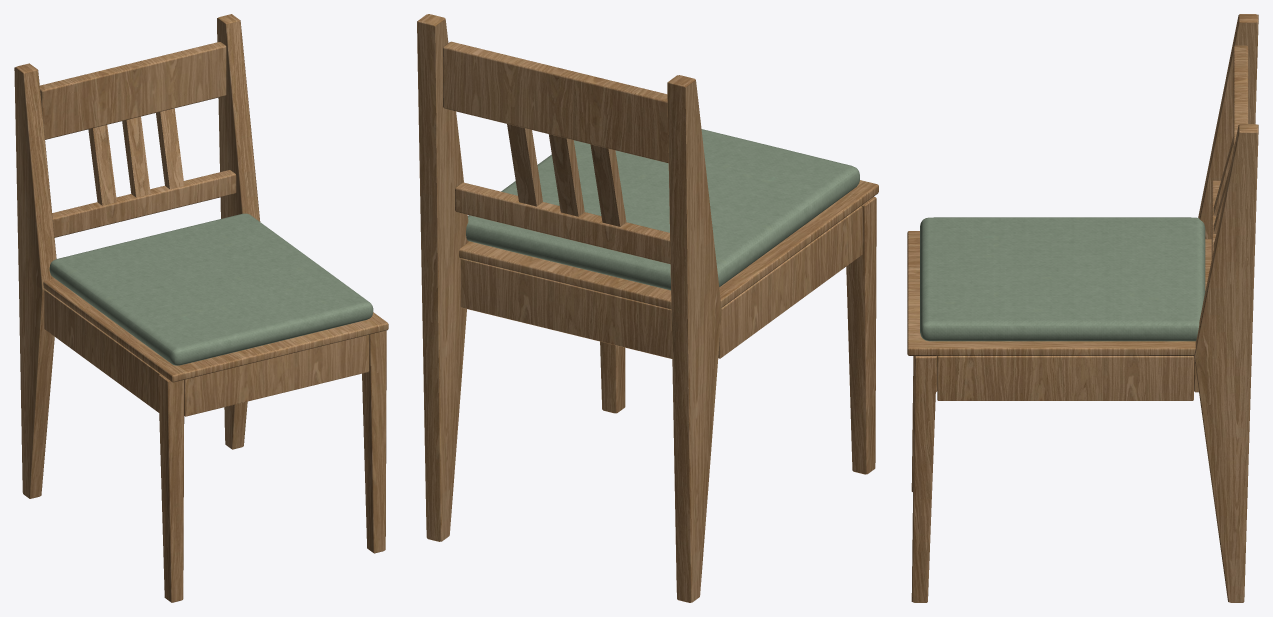
Rendered from ap_dining_chair.glb.
3 renders of one model, left to right at view 1: azimuth 30°, elevation 25°; view 2: azimuth 150°, elevation 25°; view 3: azimuth 270°, elevation 25°, orthographic. The views are drawn at different scales.
Parts seen in each view (by area): view 1: ap_dining_chair; view 2: ap_dining_chair; view 3: ap_dining_chair.
Part boxes in pixels (x1,y1,x2,y2): ap_dining_chair: (14, 14, 388, 602); ap_dining_chair: (417, 14, 878, 602); ap_dining_chair: (907, 14, 1258, 602).
Size of the model in its own units: 0.456 by 0.84 by 0.5659.
2 materials, 2 textured.
